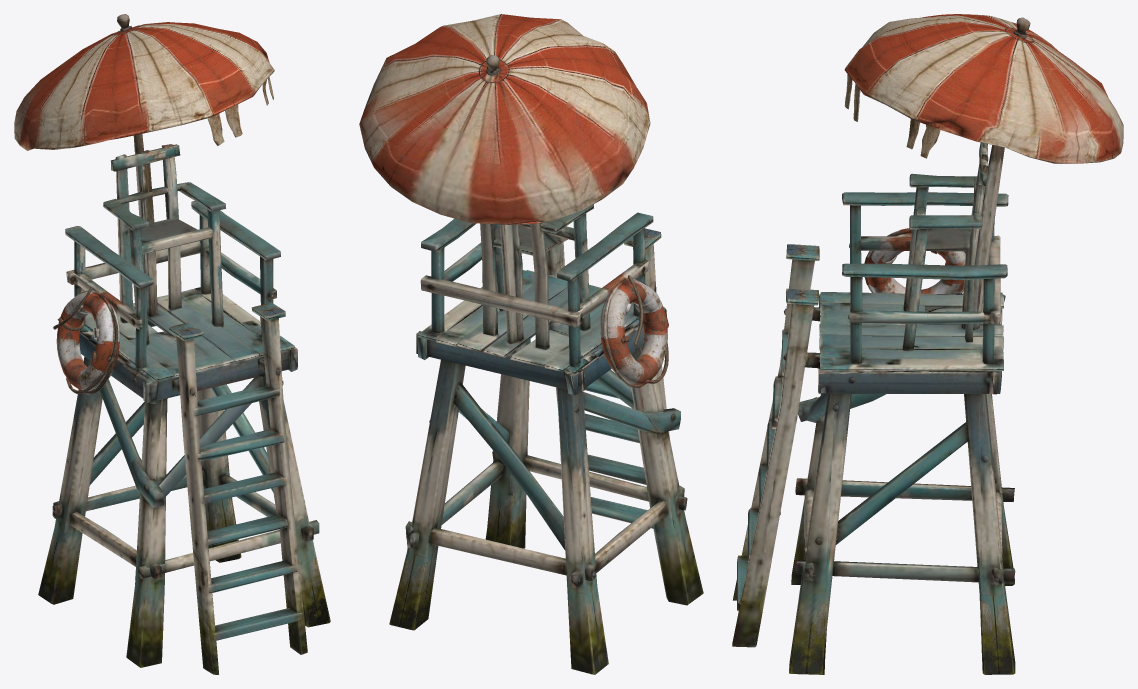
Rendered from lifeguard.glb.
The picture shows the model from 3 angles, left to right: view 1: azimuth 30°, elevation 25°; view 2: azimuth 150°, elevation 25°; view 3: azimuth 270°, elevation 25°; orthographic projection. The views are drawn at different scales.
Visible parts, largest first — view 1: lifeguard; view 2: lifeguard; view 3: lifeguard.
Part boxes in pixels (left/top/right/bottom): lifeguard: left=14, top=14, right=330, bottom=674; lifeguard: left=359, top=14, right=703, bottom=674; lifeguard: left=732, top=14, right=1123, bottom=674.
Bounding box in the file's own units: 0.4383 × 1 × 0.5875.
Materials: 1 (1 with a texture image).
